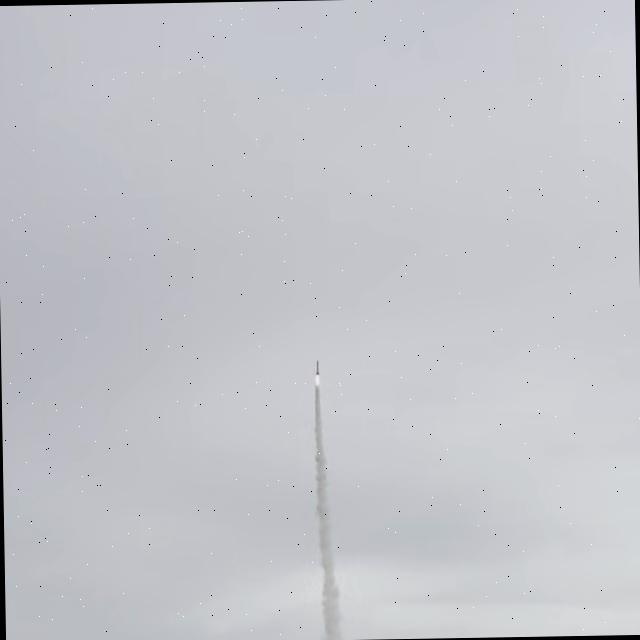smoke_trail_with_rocket: (313, 361, 343, 640)
